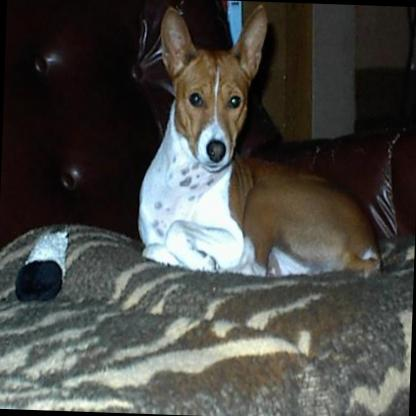basenji: (134, 2, 388, 290)
